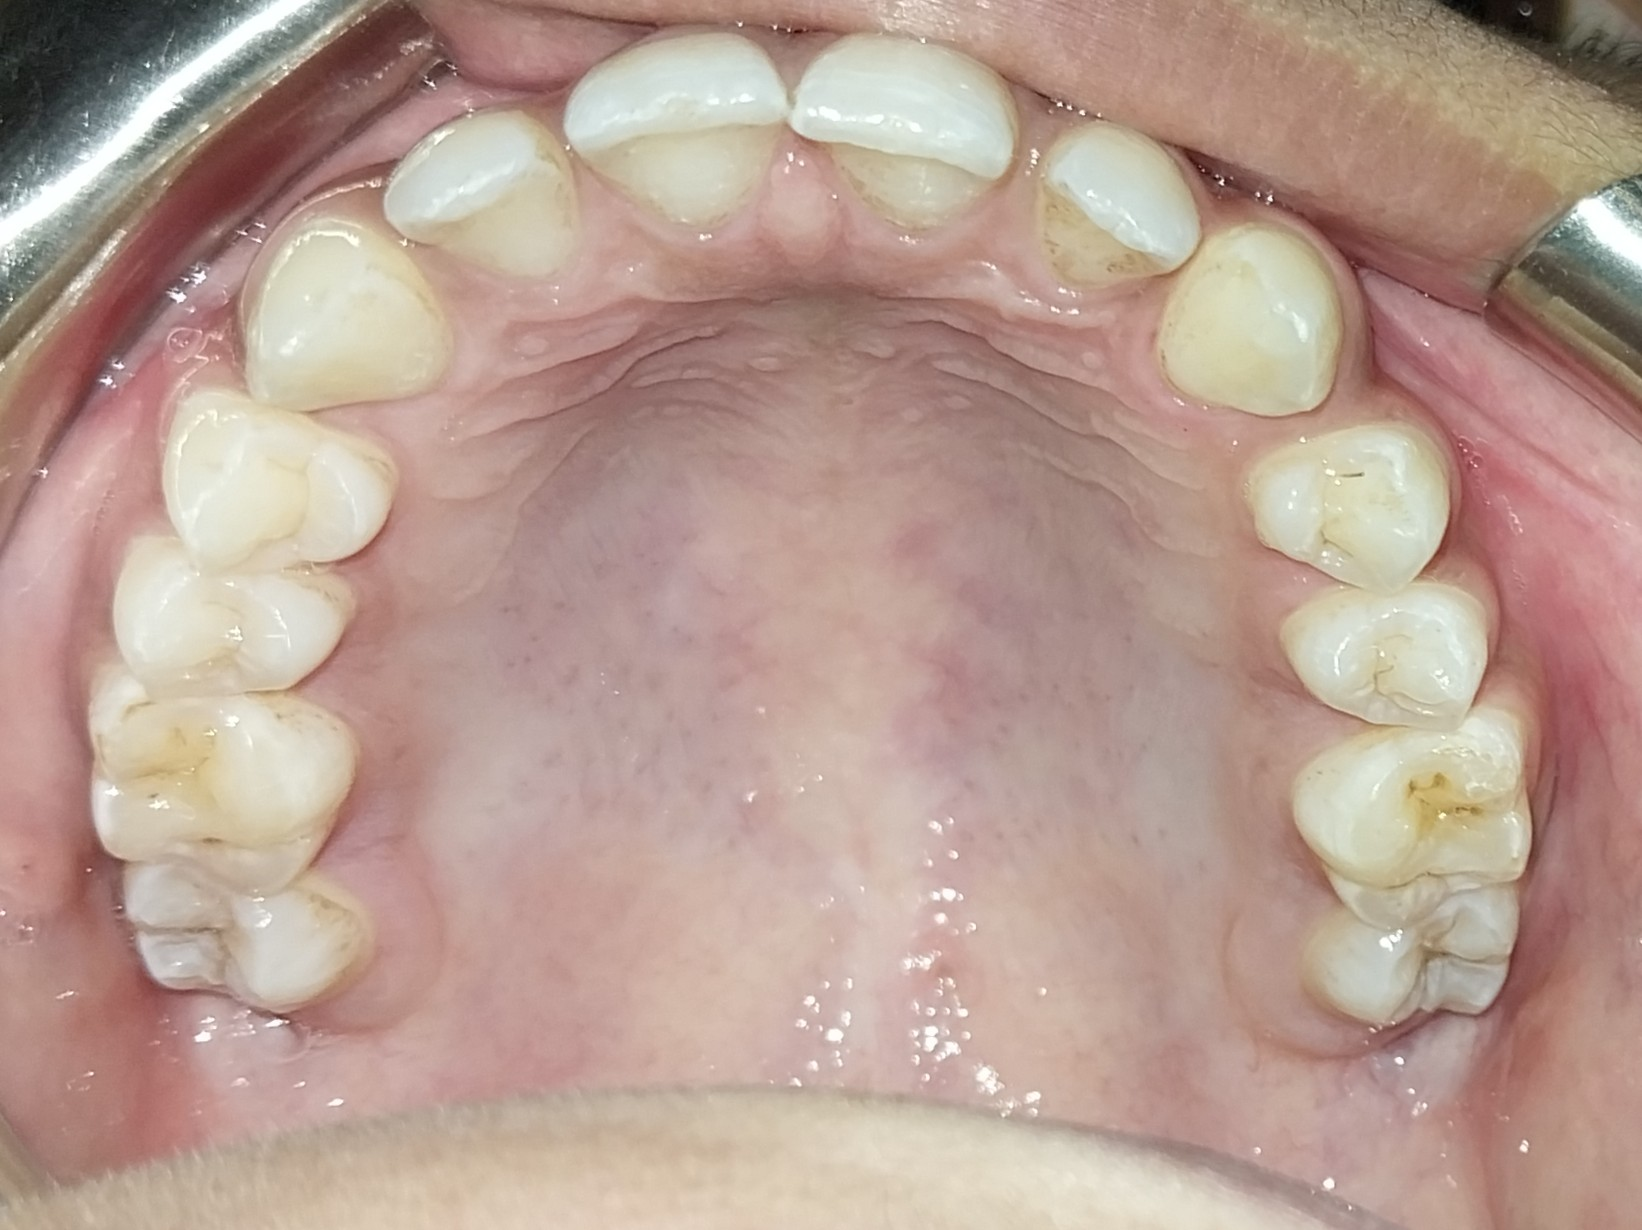D: (1297, 717, 1539, 938)
